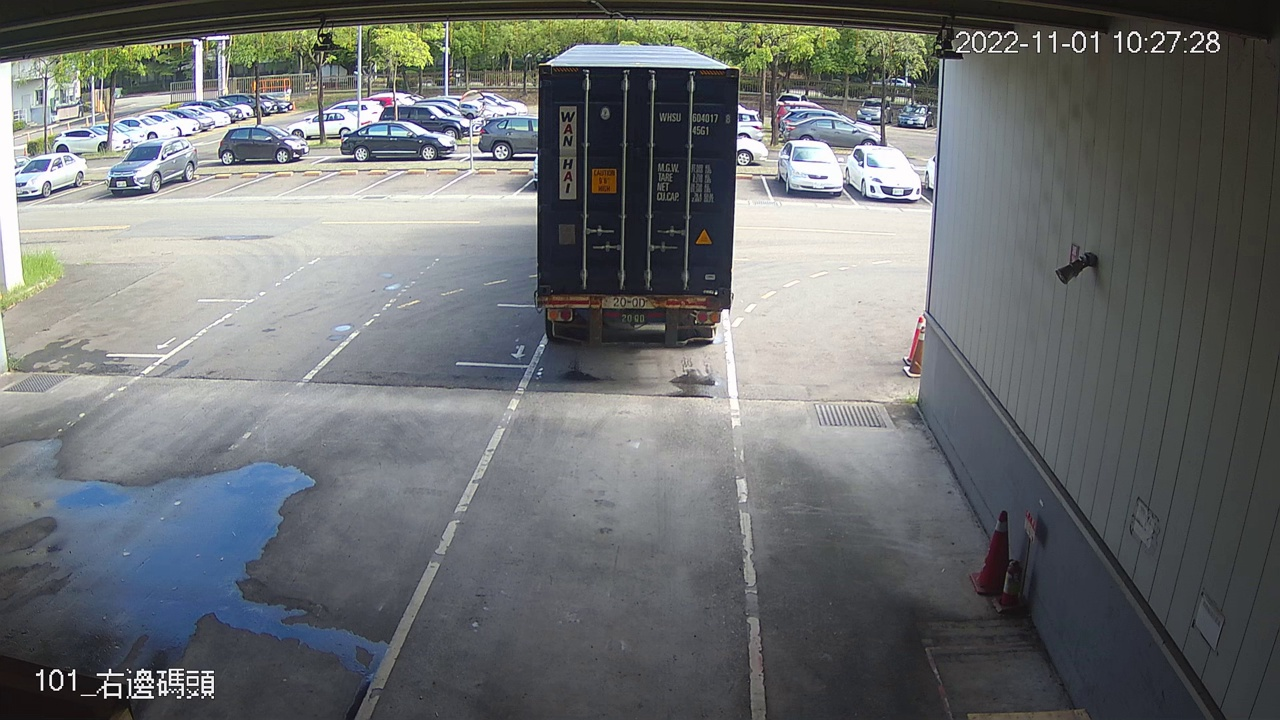container: (655, 104, 733, 145)
